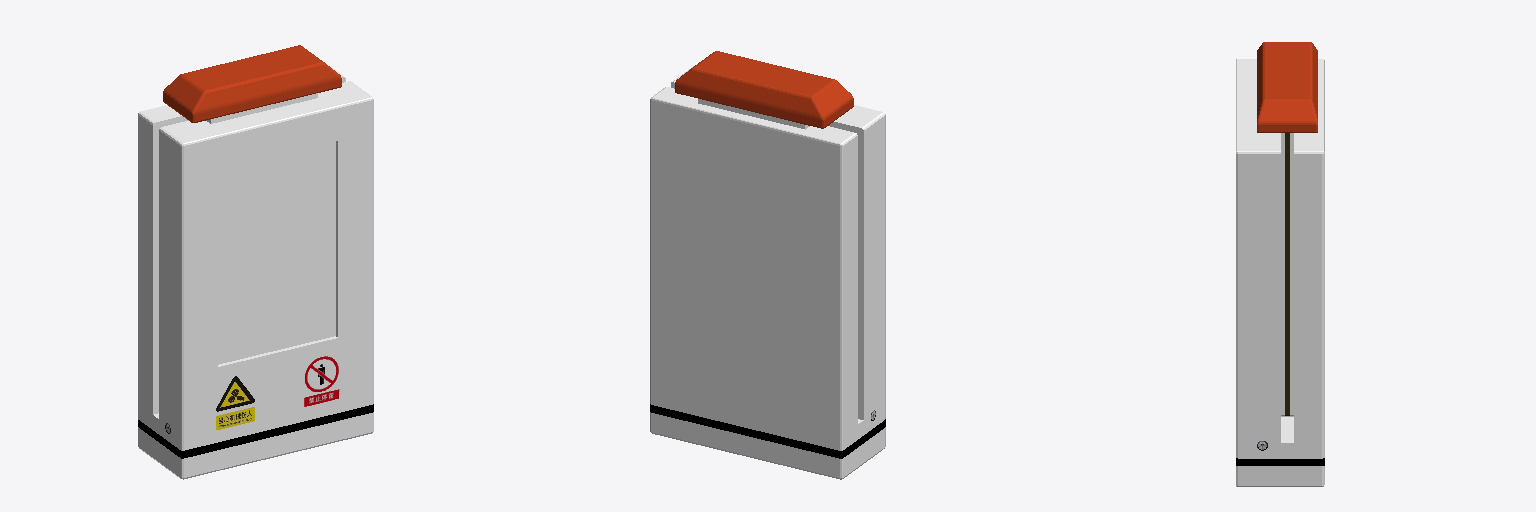
3 views of the same model, side by side, from view 1: azimuth 30°, elevation 25°; view 2: azimuth 150°, elevation 25°; view 3: azimuth 270°, elevation 25° (orthographic).
Visible parts, largest first — view 1: d1, sc, m, d2; view 2: d1, m, d2; view 3: d1, m.
Part boxes in pixels (left/top/right/bottom): d1: left=138, top=67, right=373, bottom=479; sc: left=218, top=141, right=335, bottom=364; m: left=163, top=45, right=341, bottom=122; d2: left=206, top=93, right=317, bottom=123; d1: left=650, top=66, right=885, bottom=479; m: left=675, top=51, right=853, bottom=128; d2: left=698, top=99, right=809, bottom=129; d1: left=1236, top=59, right=1324, bottom=486; m: left=1257, top=42, right=1317, bottom=415.
Bounding box in the file's own units: 0.902 × 1.65 × 0.361.
9 materials, 3 textured.